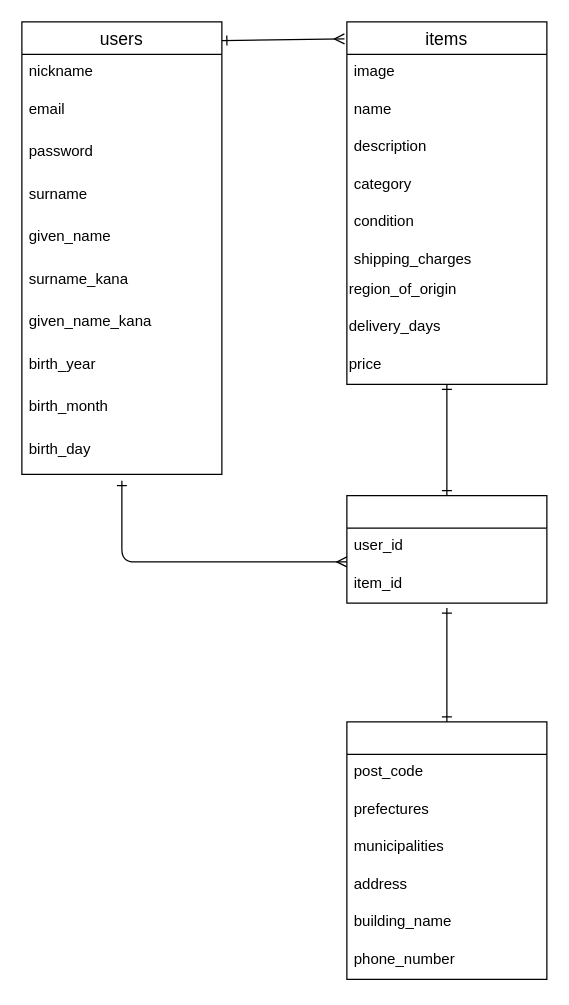
Image size: 569x1005. Some labels were removed from this diagram. The shapes that lost their labels are listed below. From the top down, each one's box as (x1, y1, x2, y2) in pixels, then its label:
(346, 494, 547, 603): purchases
(346, 721, 547, 979): shippings
